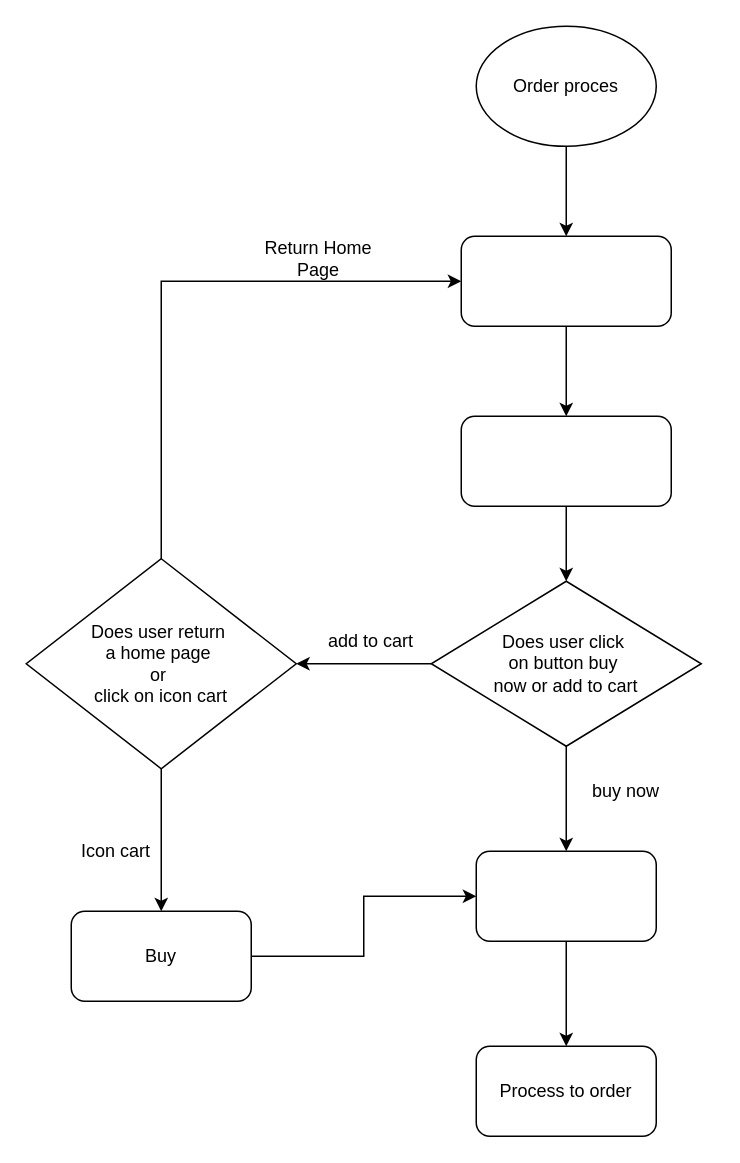
The diagram is 740 pixels wide and 1163 high, and some of its shapes have lost their labels. The shapes that lost their labels are listed below. From the top down, each one's centre as x and y in pixels, then its label:
At pixel 565 280: "User click on product".
At pixel 565 460: "User choose size and color".
At pixel 565 895: "User enter their information".
